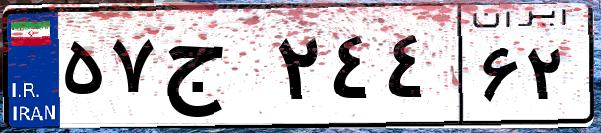2: (270, 28, 330, 110), (525, 38, 570, 115)
4: (385, 28, 445, 110), (330, 28, 385, 110)
5: (57, 26, 110, 100)
6: (475, 38, 525, 113)
7: (110, 28, 158, 98)
ج: (158, 20, 270, 120)
